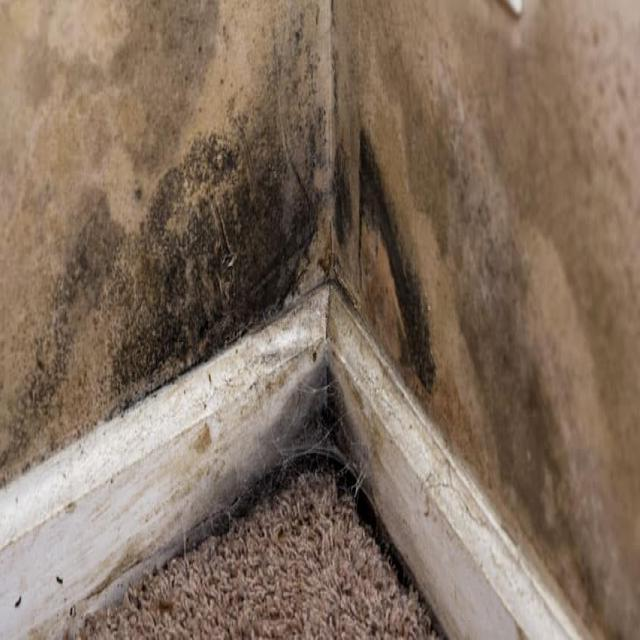dampness: (108, 104, 472, 377)
